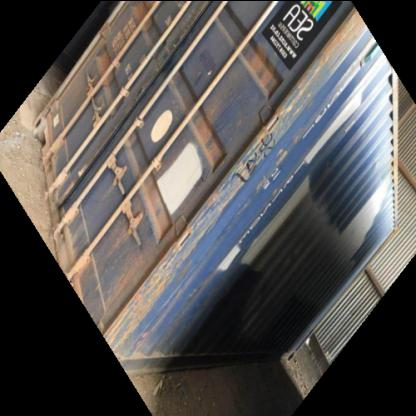Damage: (98, 250, 177, 346), (235, 130, 289, 178), (142, 175, 178, 243), (242, 40, 282, 92), (192, 116, 224, 168), (92, 51, 121, 92), (358, 150, 387, 189), (128, 1, 158, 35)
